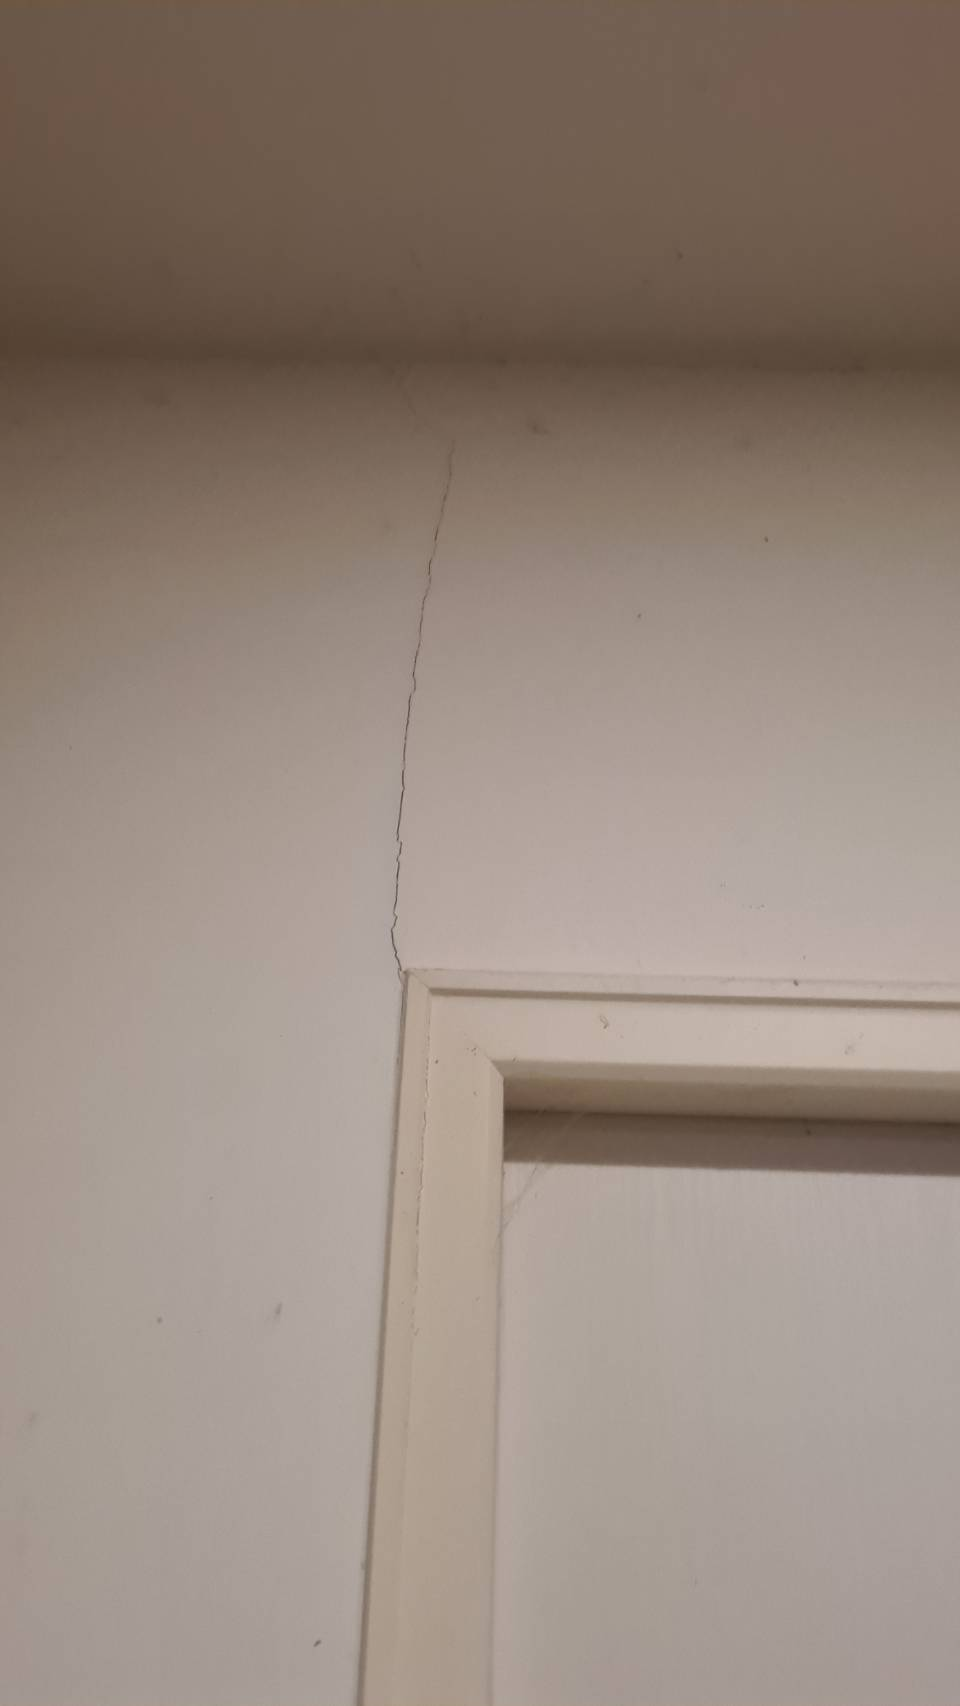Low: (356, 374, 549, 1081)
